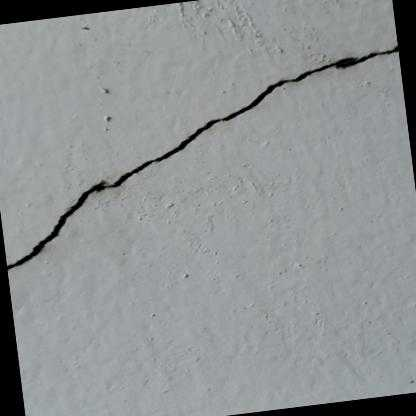crack: (5, 45, 398, 270)
